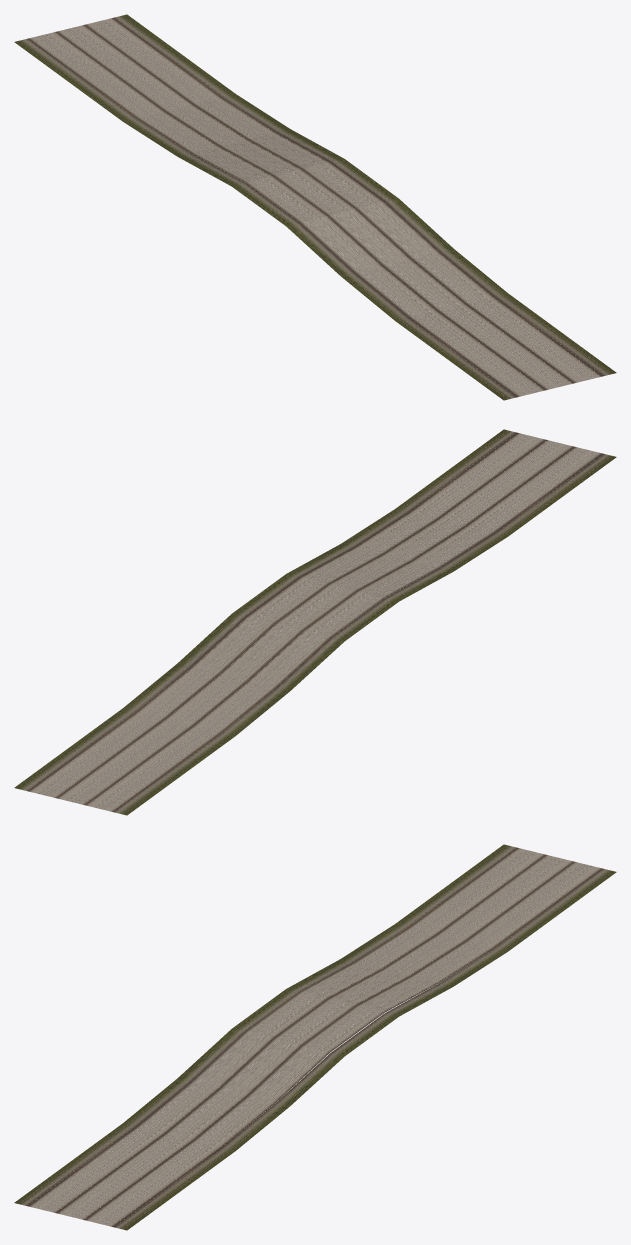
Rendered from lvl_1.fbx.
The picture shows the model from 3 angles, top to bottom: view 1: azimuth 30°, elevation 25°; view 2: azimuth 150°, elevation 25°; view 3: azimuth 330°, elevation 25°; orthographic projection.
Visible parts, largest first — view 1: Plane.003, Plane, Plane.001, Plane.002; view 2: Plane.003, Plane.001, Plane, Plane.002; view 3: Plane.003, Plane.002, Plane.001, Plane.
Boxes of the visible parts, x1,y1,x2,y2 form: Plane.003: (14, 14, 616, 400); Plane: (57, 25, 573, 389); Plane.001: (28, 31, 545, 396); Plane.002: (85, 18, 602, 383); Plane.003: (14, 429, 616, 815); Plane.001: (85, 446, 602, 811); Plane: (57, 440, 573, 804); Plane.002: (28, 433, 545, 798); Plane.003: (14, 844, 616, 1230); Plane.002: (85, 861, 602, 1226); Plane.001: (28, 848, 545, 1213); Plane: (57, 855, 573, 1219).
Bounding box in the file's own units: 800 × 103 × 6000.
